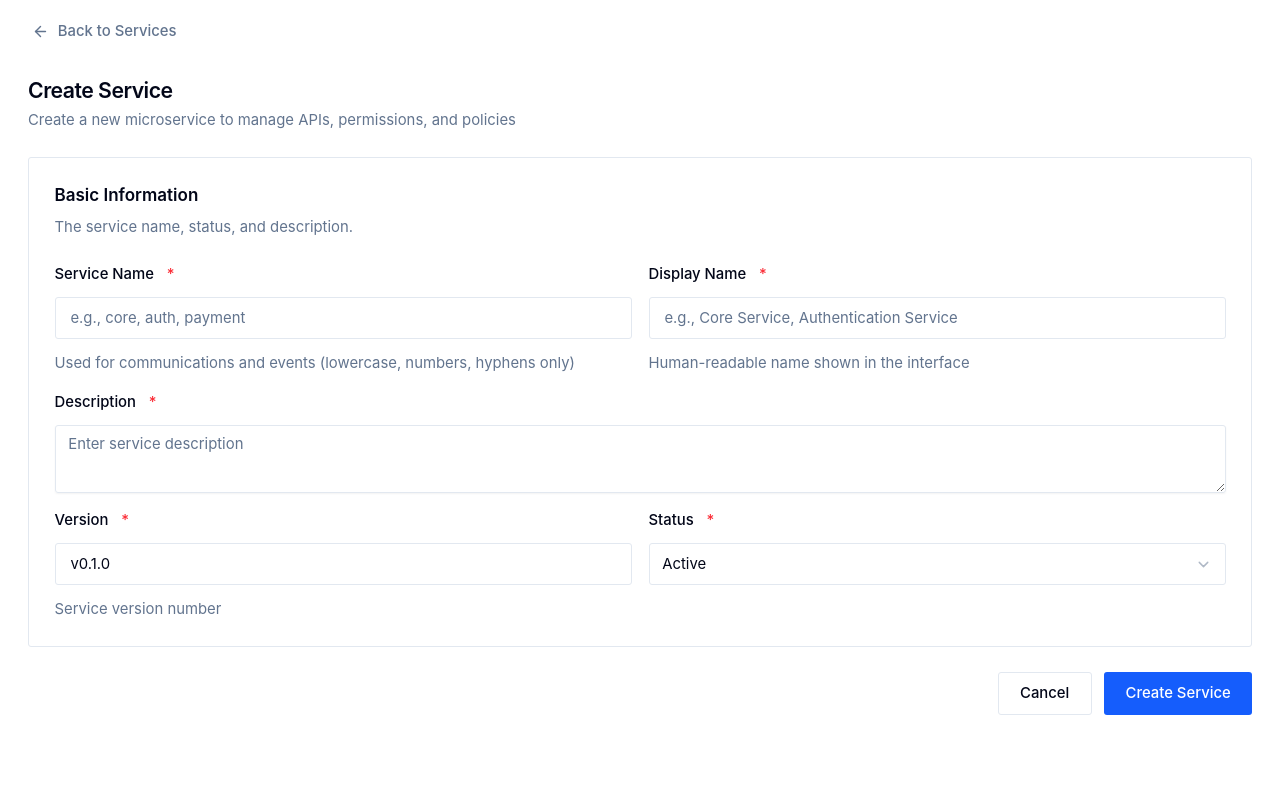
Test: ServiceAddOrUpdateForm › shows validation errors for blank required fields on create
The image size is (1280, 812).
Click the button "Create Service" at (1178, 694), box [1104,672,1252,715]
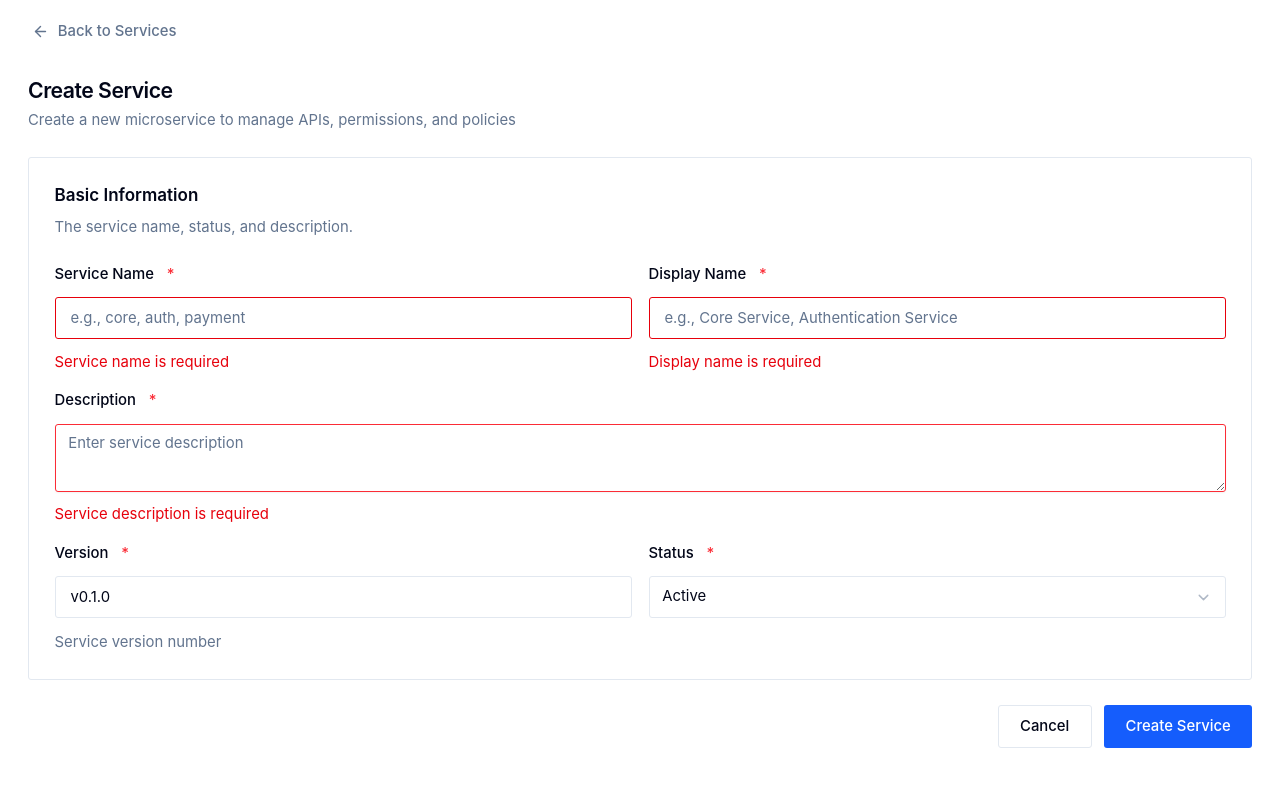
Result: the text "Service name is required" is shown at [54,353,229,371]
Result: the text "Display name is required" is shown at [648,353,821,371]
Result: the text "Service description is required" is shown at [54,505,269,523]
